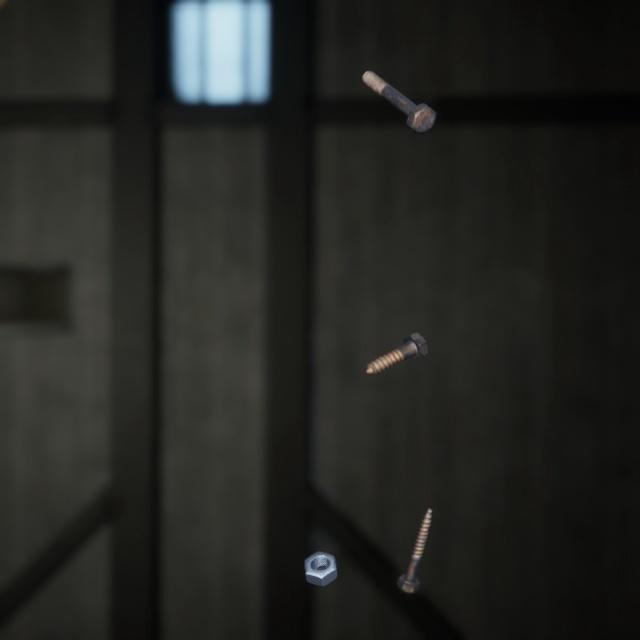bolt: (357, 56, 440, 127), (392, 481, 436, 576), (361, 309, 432, 362)
nut: (301, 524, 343, 567)
